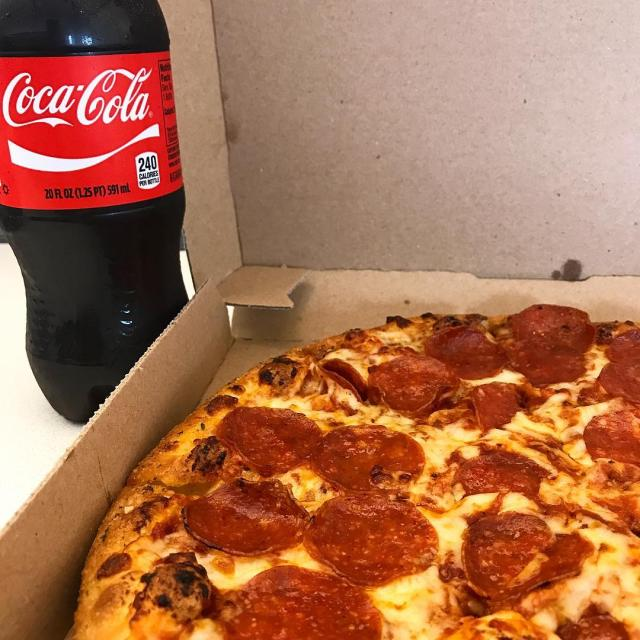pepperoni: (299, 494, 442, 586), (222, 561, 382, 640), (459, 512, 591, 602), (177, 476, 311, 558), (309, 424, 429, 494), (215, 403, 321, 478), (367, 353, 458, 414), (424, 323, 508, 381), (452, 451, 542, 505), (581, 405, 640, 483), (510, 303, 595, 354), (507, 338, 589, 388), (465, 380, 531, 432), (556, 611, 630, 640), (316, 359, 368, 400), (600, 362, 640, 403), (601, 327, 640, 366)
pizza: (59, 302, 640, 640)
